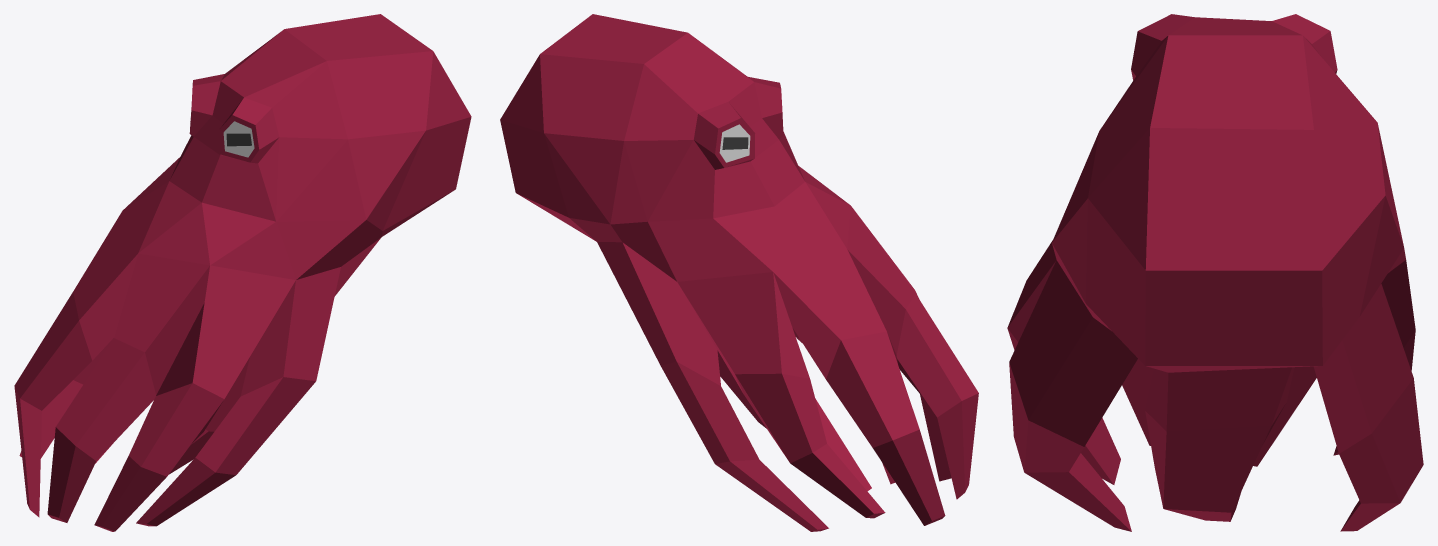
File: frame_01.fbx
The picture shows the model from 3 angles, left to right: view 1: azimuth 30°, elevation 25°; view 2: azimuth 150°, elevation 25°; view 3: azimuth 270°, elevation 25°; orthographic projection. The views are drawn at different scales.
Visible parts, largest first — view 1: Octopus.001; view 2: Octopus.001; view 3: Octopus.001.
Part boxes in pixels (bbox=[...]): Octopus.001: bbox=[14, 14, 471, 531]; Octopus.001: bbox=[500, 14, 978, 531]; Octopus.001: bbox=[1007, 14, 1423, 531].
Bounding box in the file's own units: 6.28 × 5.95 × 3.5.
